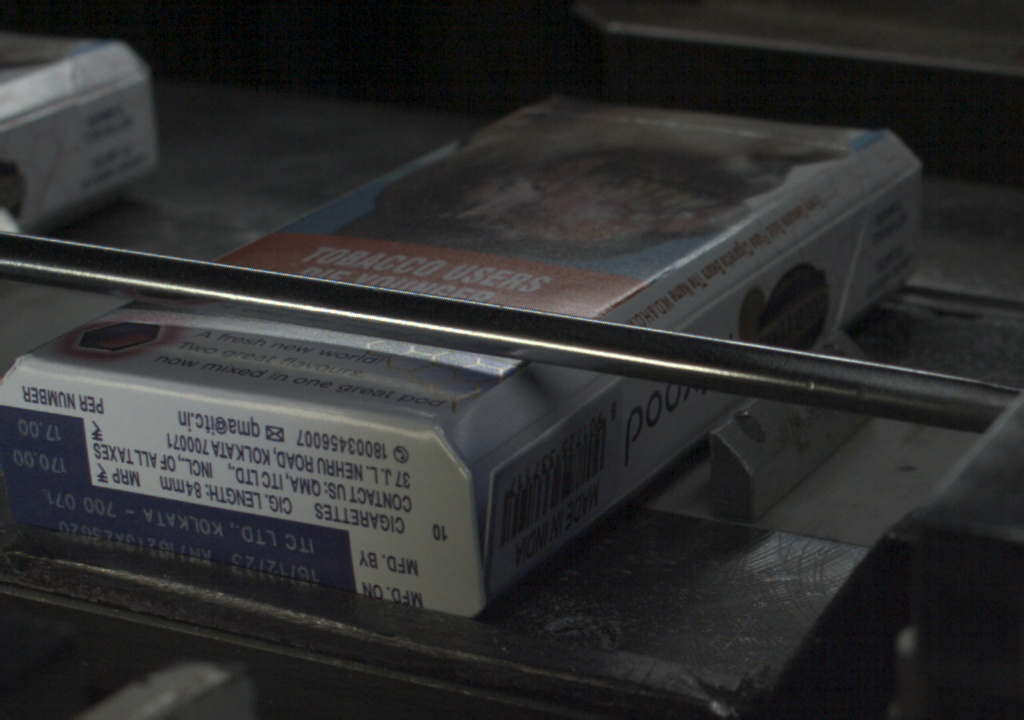g_bottom: (1, 356, 470, 620)
g_label: (5, 485, 354, 590)
g_lmiter: (680, 260, 780, 333), (474, 429, 535, 519), (780, 199, 870, 257), (520, 381, 600, 445)
g_miter: (872, 161, 916, 201)
price: (1, 412, 90, 485)
